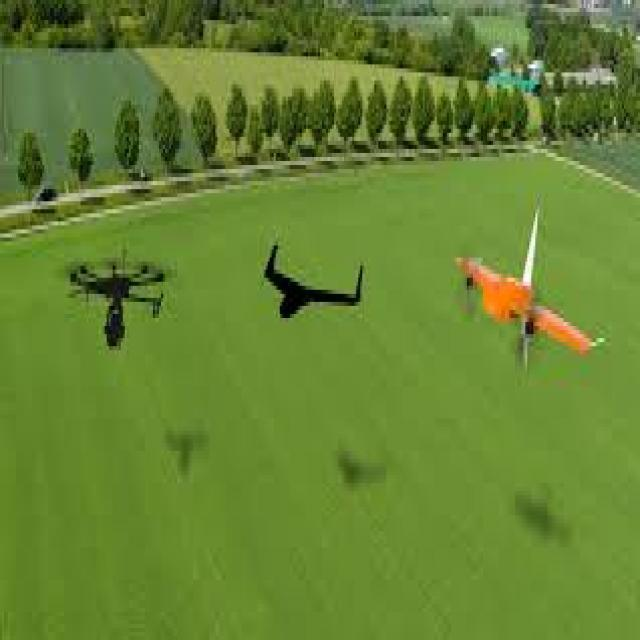UAV: (460, 218, 624, 406)
